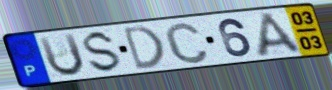6: (217, 17, 254, 59)
A: (256, 10, 307, 59)
C: (162, 20, 212, 66)
D: (121, 24, 167, 72)
S: (82, 29, 124, 75)
U: (36, 31, 87, 79)
